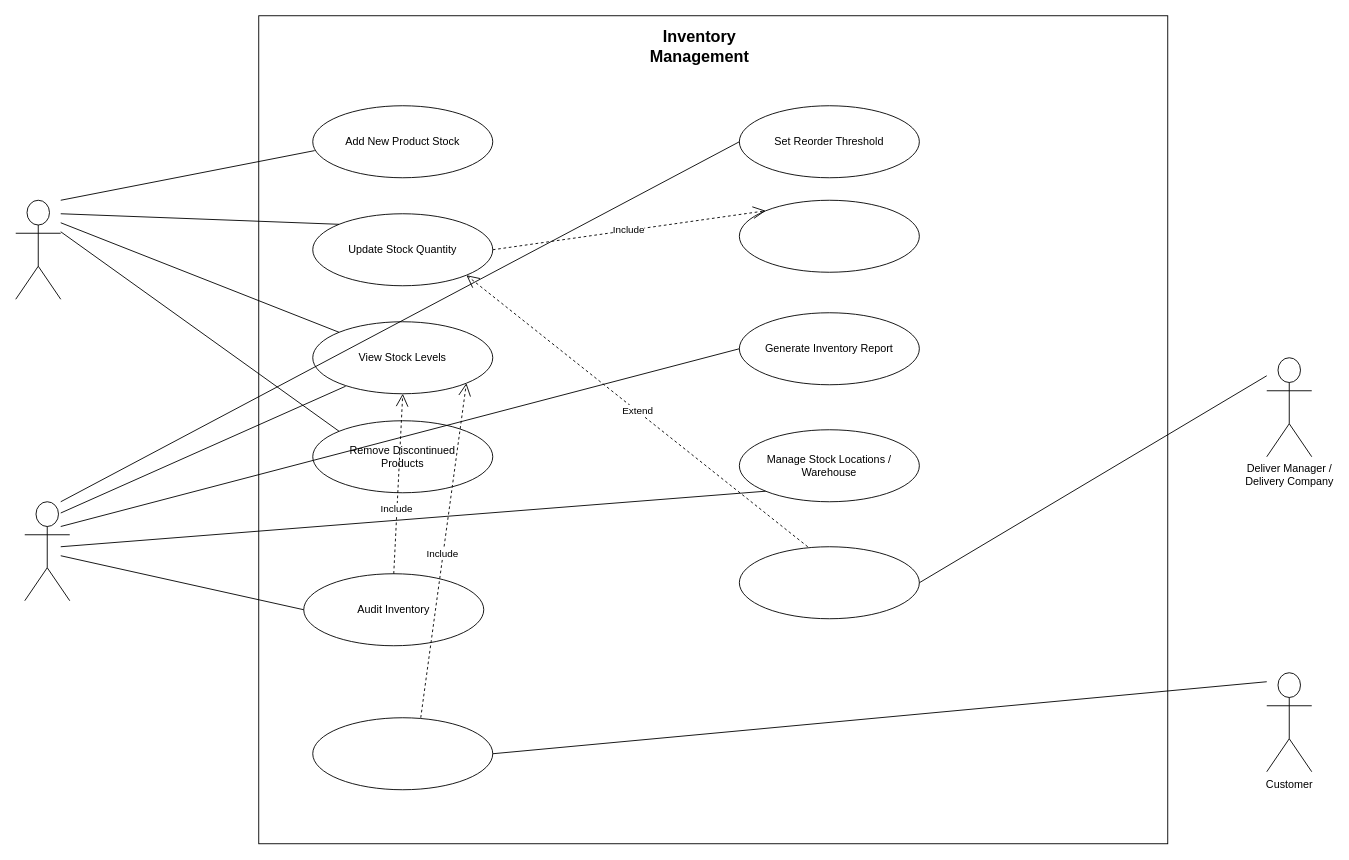
The diagram is 1349 pixels wide and 860 high, and some of its shapes have lost their labels. Each missing label, with the centre of its shape:
"Admin" goes at point 47,551.
"Check Product Availability" goes at point 402,753.
"Generate Low Stock Alerts" goes at point 828,235.
"Restocked Returned Items" goes at point 828,582.
"Seller" goes at point 38,249.
